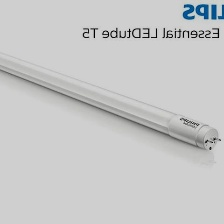light_bulb: (0, 47, 223, 153)
